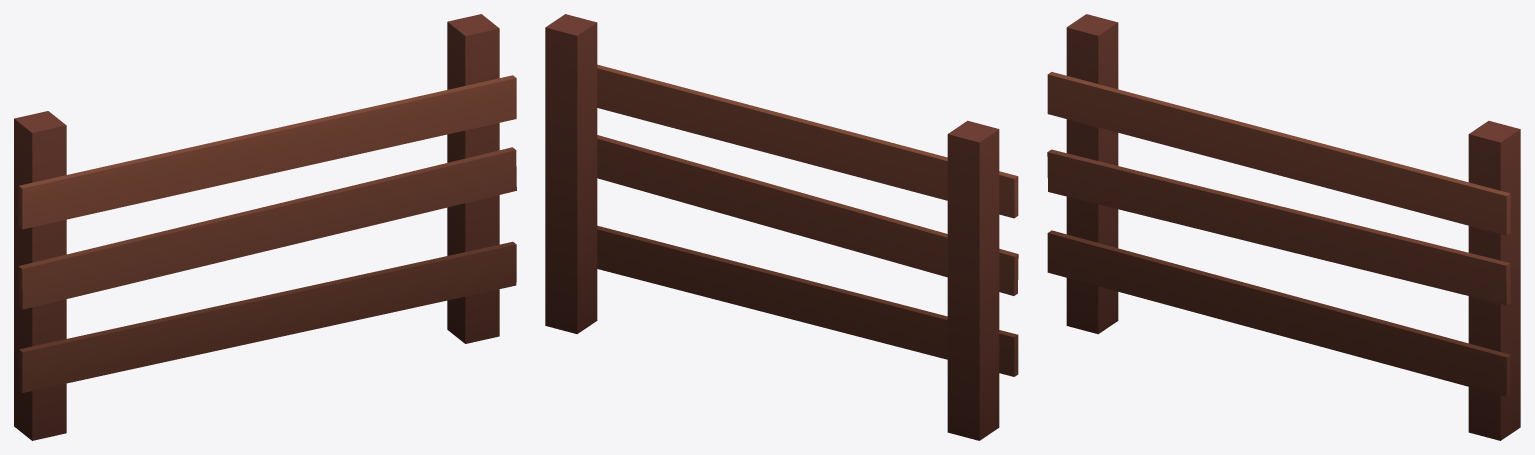
File: farmpack2023fence01.fbx
3 views of the same model, side by side, from view 1: azimuth 30°, elevation 25°; view 2: azimuth 150°, elevation 25°; view 3: azimuth 330°, elevation 25° (orthographic). The views are drawn at different scales.
Parts seen in each view (by area): view 1: farmpack2023fence01; view 2: farmpack2023fence01; view 3: farmpack2023fence01.
Part boxes in pixels (x1,y1,x2,y2): farmpack2023fence01: (14, 14, 516, 440); farmpack2023fence01: (545, 14, 1018, 440); farmpack2023fence01: (1047, 14, 1520, 440).
Bounding box in the file's own units: 0.3649 × 2.96 × 1.8.
